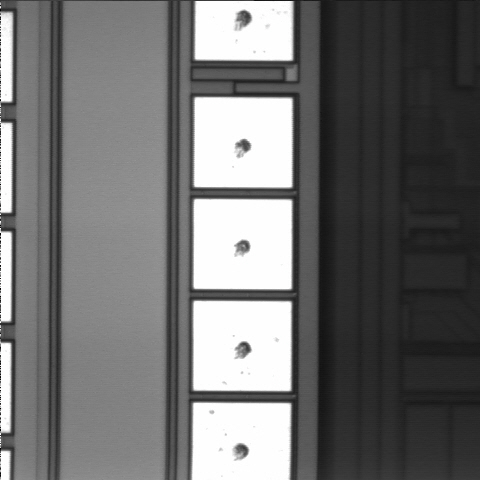pad: (194, 97, 292, 188), (194, 199, 292, 289), (193, 301, 291, 391)
